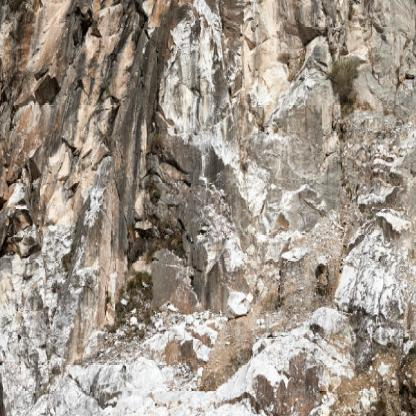Sedimentary_Limestone: (246, 36, 346, 304), (1, 12, 65, 94), (0, 164, 34, 257)
